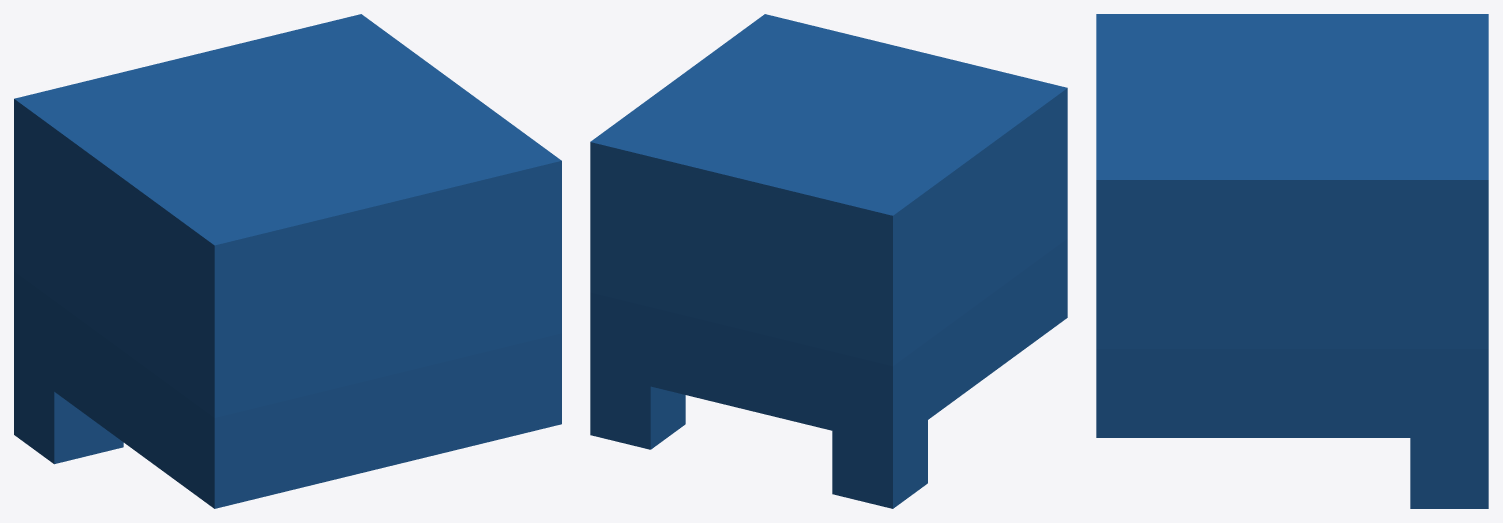
Rendered from bedmattress.obj.
3 views of the same model, side by side, from view 1: azimuth 30°, elevation 25°; view 2: azimuth 150°, elevation 25°; view 3: azimuth 270°, elevation 25° (orthographic). The views are drawn at different scales.
Visible parts, largest first — view 1: bedmattress; view 2: bedmattress; view 3: bedmattress.
Part boxes in pixels (bbox=[...]): bedmattress: bbox=[14, 14, 561, 508]; bedmattress: bbox=[590, 14, 1067, 508]; bedmattress: bbox=[1096, 14, 1488, 508].
Bounding box in the file's own units: 40 × 37 × 40.
Materials: 1 (1 with a texture image).
